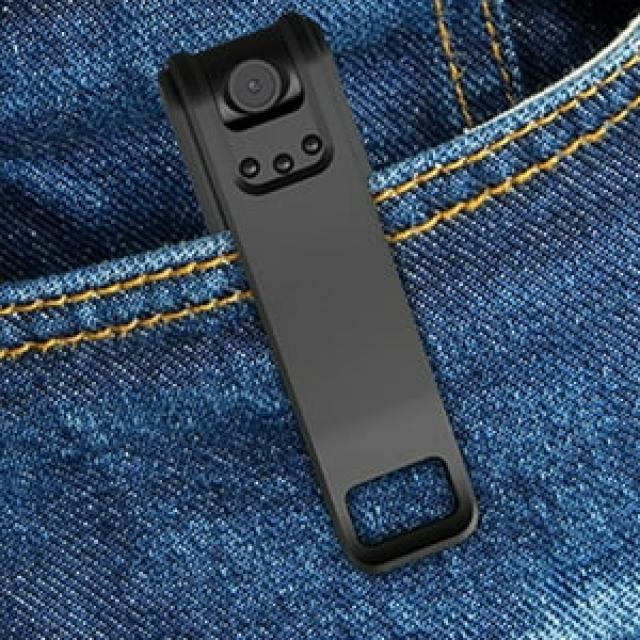hidden camera: (240, 73, 262, 98)
